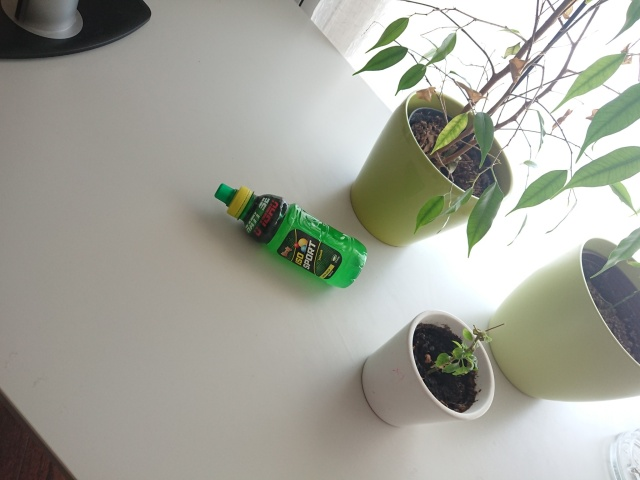Vindi Iso Sport Lemon-Grapefruit 500mL: (212, 181, 370, 290)
